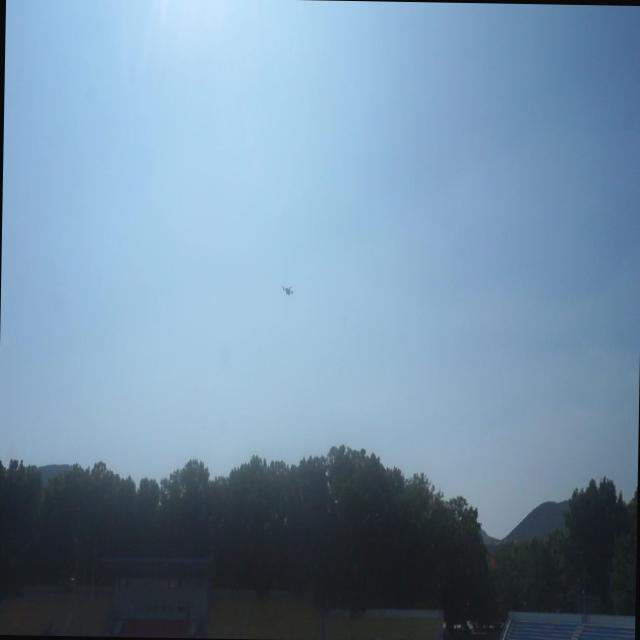drone: (282, 282, 294, 298)
